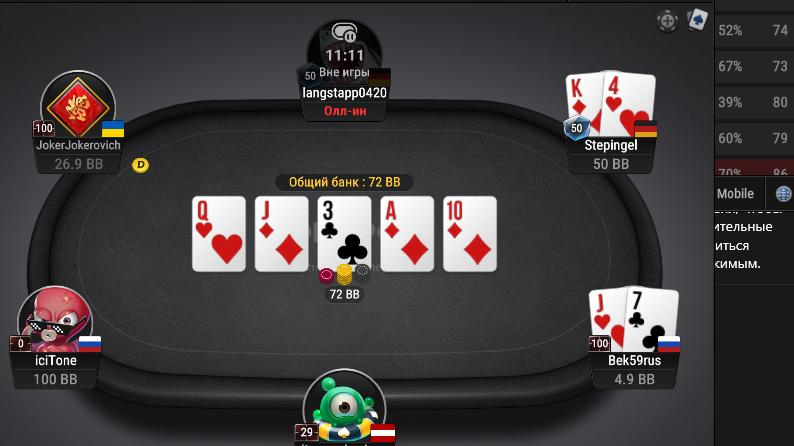10d: (445, 199, 495, 269)
3c: (317, 197, 371, 269)
4h: (603, 69, 657, 138)
7c: (625, 283, 679, 356)
Ad: (381, 197, 434, 271)
Jd: (254, 195, 308, 271)
Jh: (587, 287, 628, 353)
Kd: (565, 73, 605, 138)
Qh: (193, 195, 245, 272)
